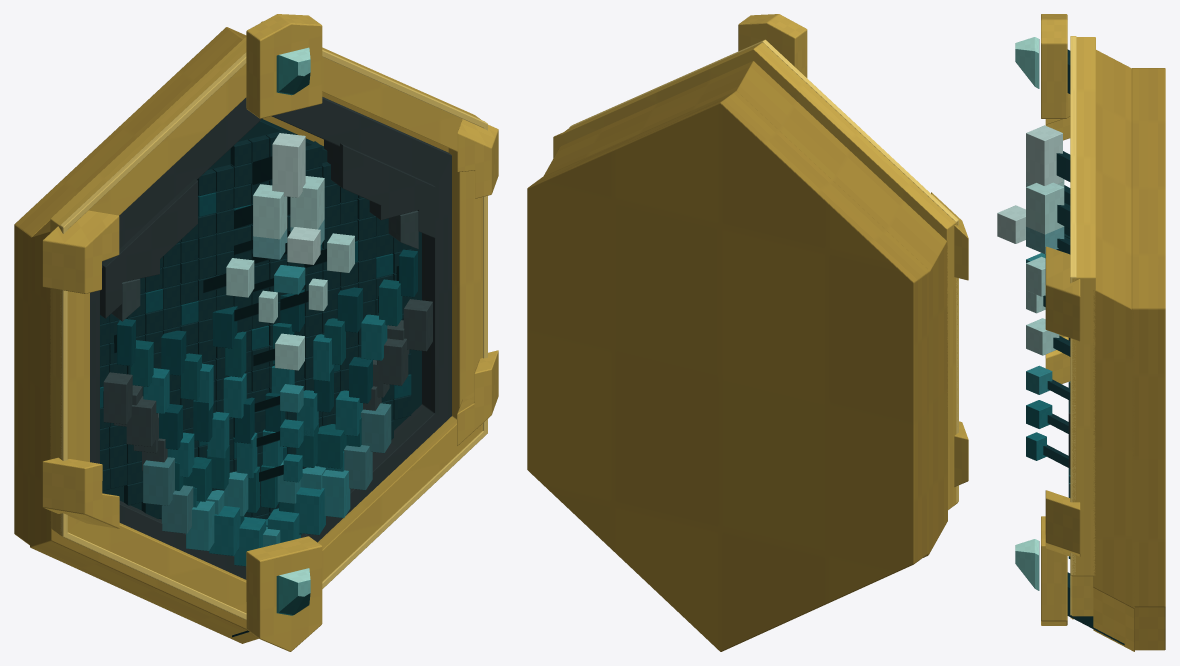
Rendered from SM_Blender_DeepDelverMark.fbx.
The picture shows the model from 3 angles, left to right: view 1: azimuth 30°, elevation 25°; view 2: azimuth 150°, elevation 25°; view 3: azimuth 270°, elevation 25°; orthographic projection. The views are drawn at different scales.
Visible parts, largest first — view 1: SM_Blender_DeepDelverMark; view 2: SM_Blender_DeepDelverMark; view 3: SM_Blender_DeepDelverMark.
Boxes of the visible parts, x1,y1,x2,y2 form: SM_Blender_DeepDelverMark: [14, 14, 498, 651]; SM_Blender_DeepDelverMark: [527, 14, 968, 651]; SM_Blender_DeepDelverMark: [997, 14, 1165, 651].
Size of the model in its own units: 95.08 by 31.58 by 131.
